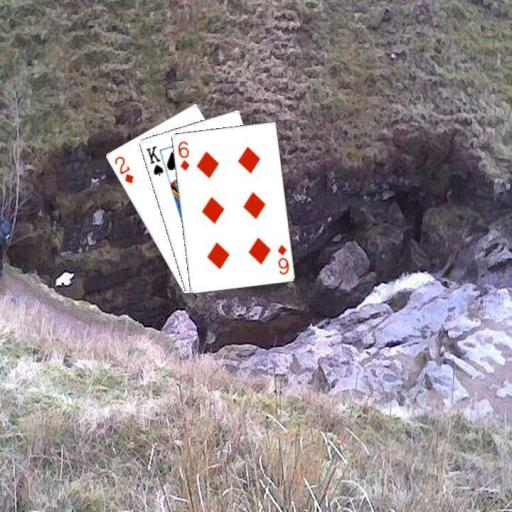2D: (111, 153, 135, 185)
6D: (174, 137, 191, 172), (275, 241, 290, 276)
KS: (142, 142, 165, 177)
